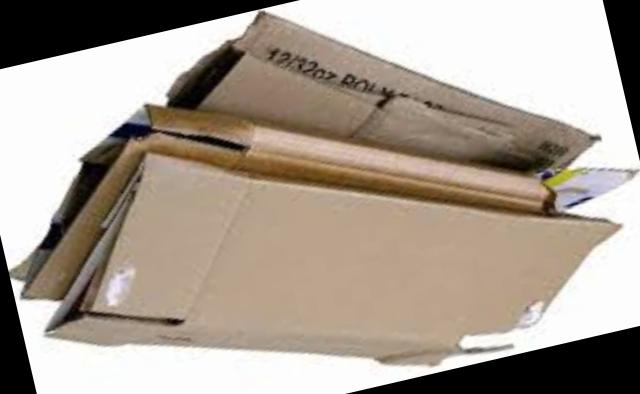cardboard paper: (10, 11, 640, 372)
